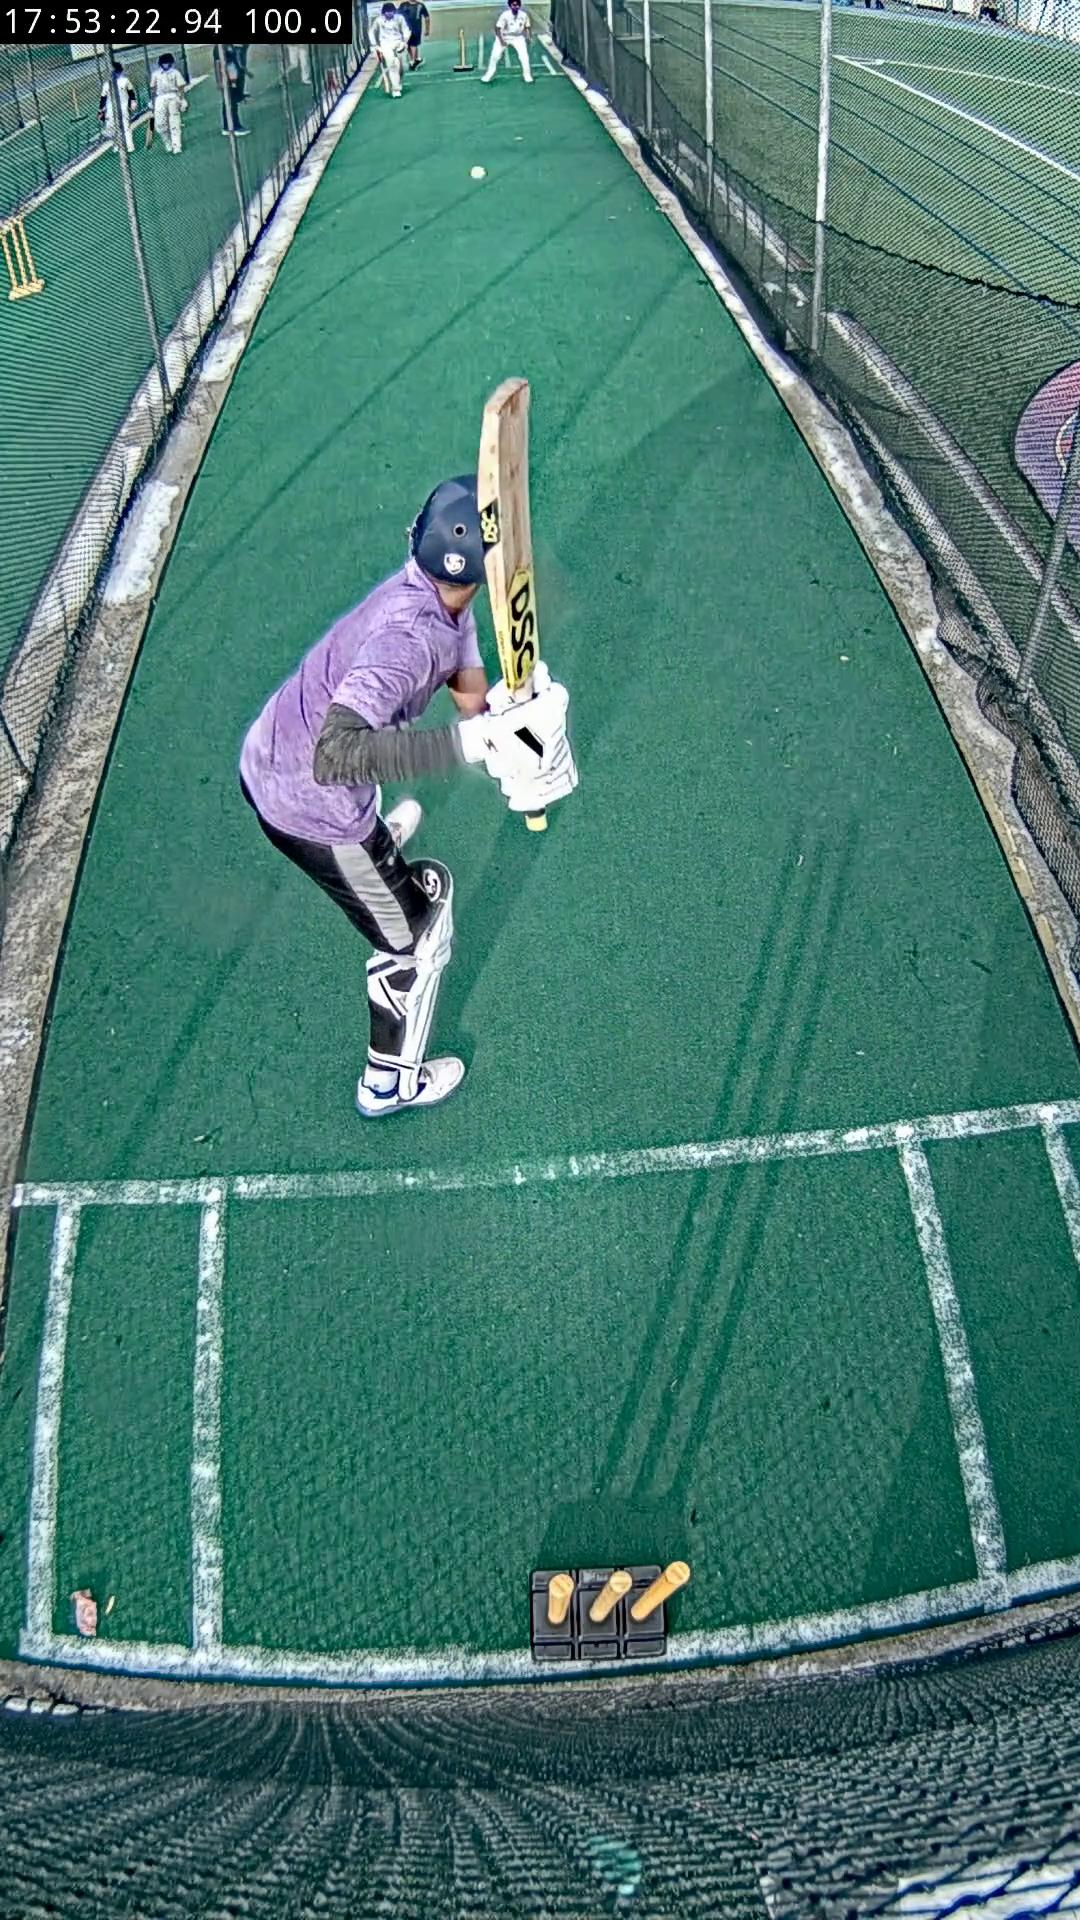ball: (468, 165, 488, 179)
bat: (476, 378, 541, 694)
gloves: (458, 663, 578, 814)
helmet: (413, 476, 484, 585)
pads: (372, 858, 454, 1102)
stumps: (529, 1560, 690, 1665)
